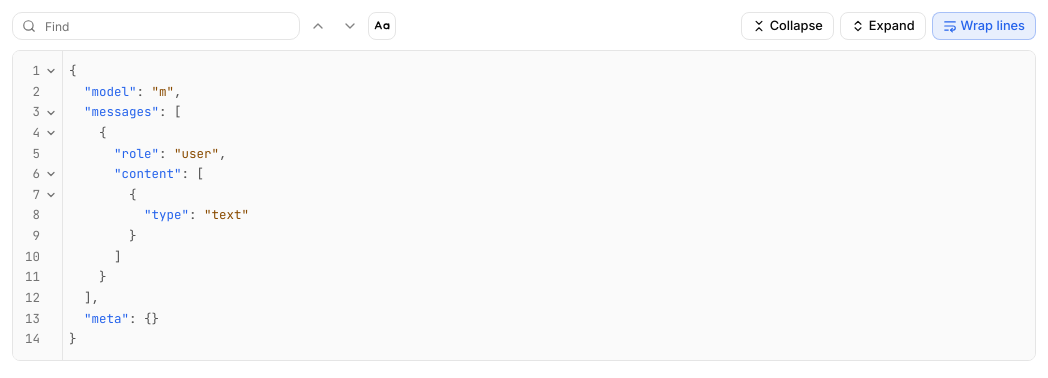
Test: JsonViewer › ignores case until match case is switched on
This screenshot has width=1048, height=378.
Type "ME" into the field labelled "Find". click: (156, 26)
box: [12,12,300,40]
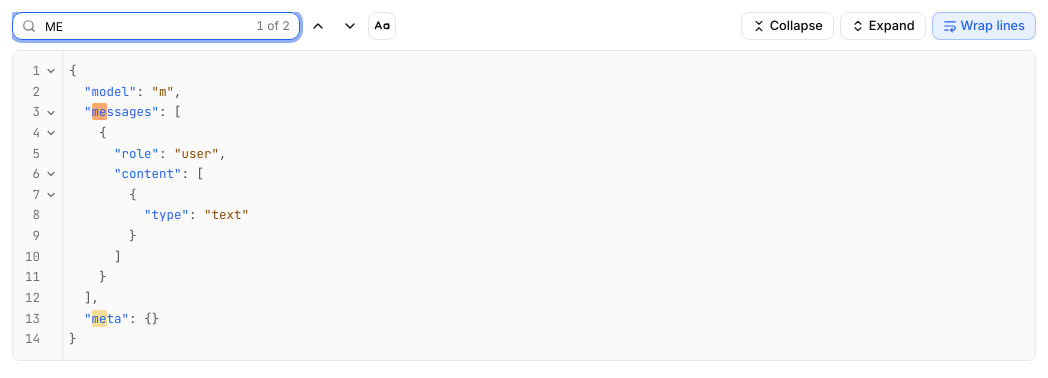
Result: the text "1 of 2" is shown at [256,18,290,34]
Click the button named "Match case". click: (382, 26)
box: [368,12,396,40]
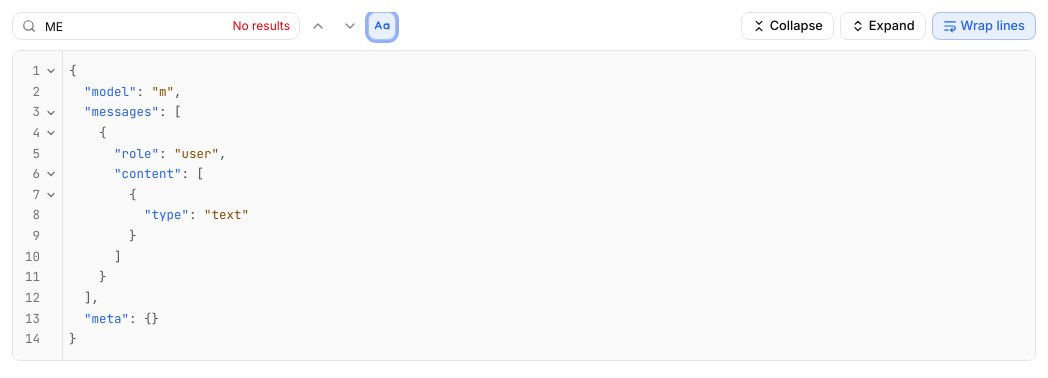
Result: the text "No results" is shown at [233,18,290,34]
